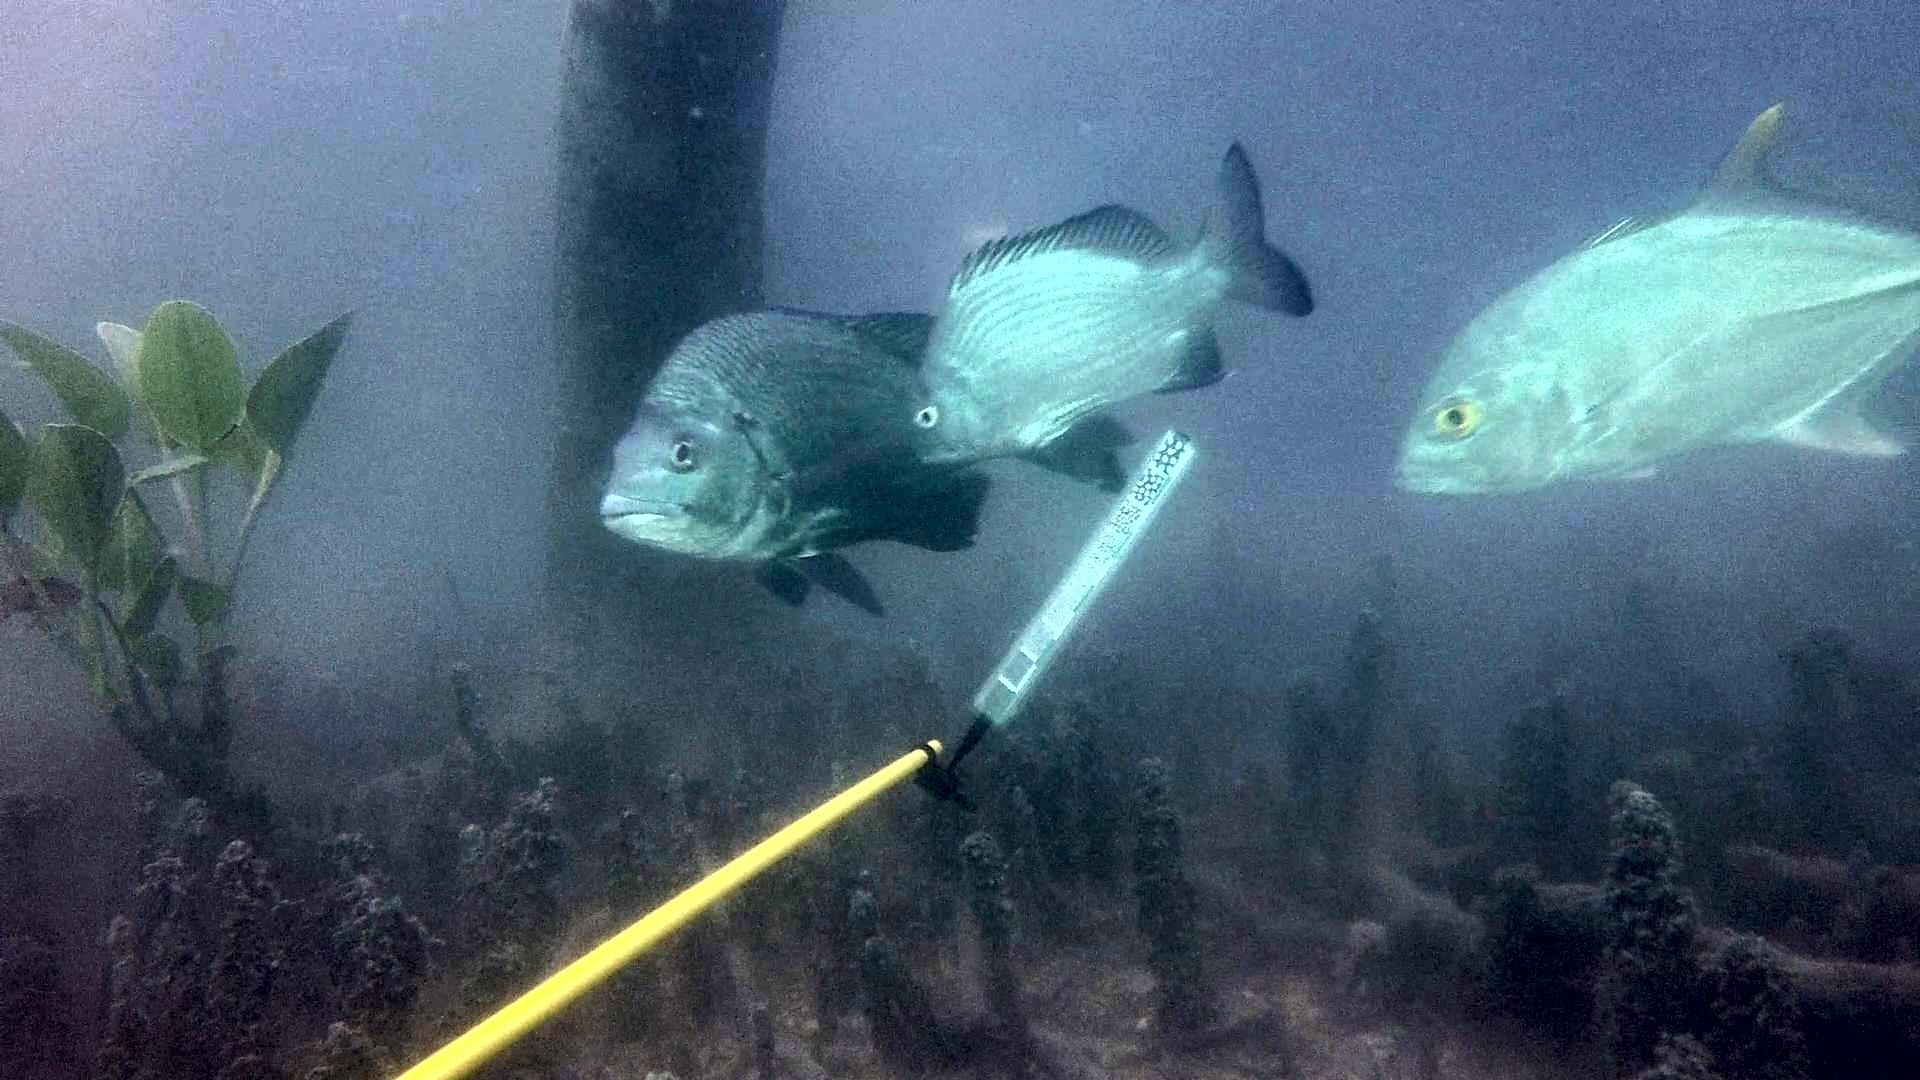acanthopagrus palmaris: (586, 300, 1162, 615), (913, 140, 1331, 484)
caranx: (1390, 88, 1920, 509)
